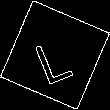L_N: (31, 26, 79, 84)
